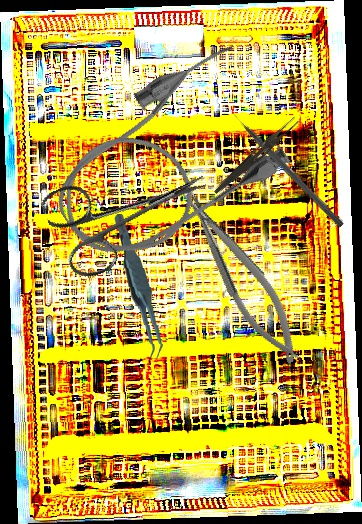Cannula: (28, 33, 304, 286)
Dressing Forceps: (212, 113, 300, 199)
Iris Scissors: (37, 135, 223, 285)
Needle Holder: (172, 175, 311, 373)
Pusher: (225, 104, 346, 229)
Tissue Forceps: (113, 212, 164, 362)
